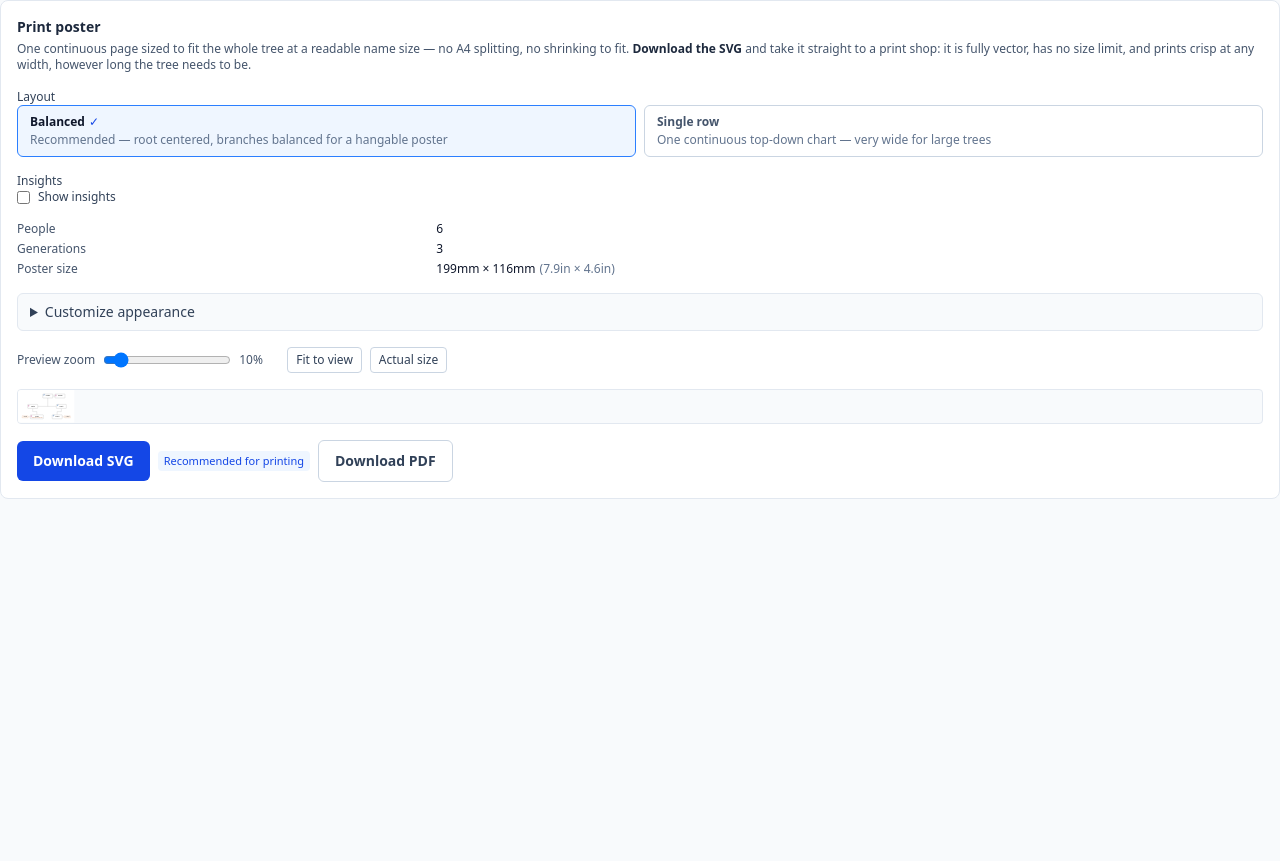
Test: PosterExportPanel › warns and never embeds thumb bytes when High quality is chosen but print is missing
Click the heading "Customize appearance" at point(120, 312), box x1=45 y1=302 x2=195 y2=321
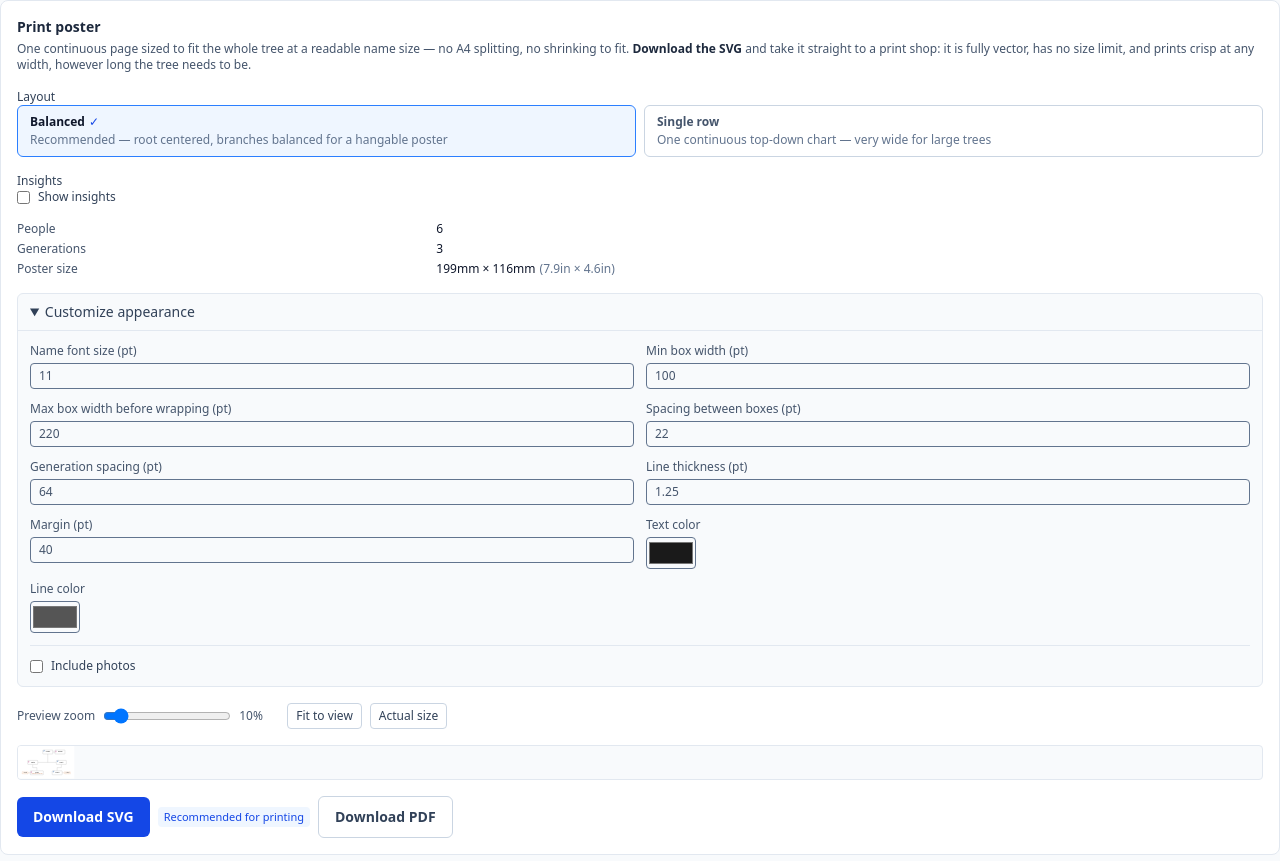
Click the checkbox labelled "Include photos" at point(36, 666), box x1=30 y1=660 x2=43 y2=672
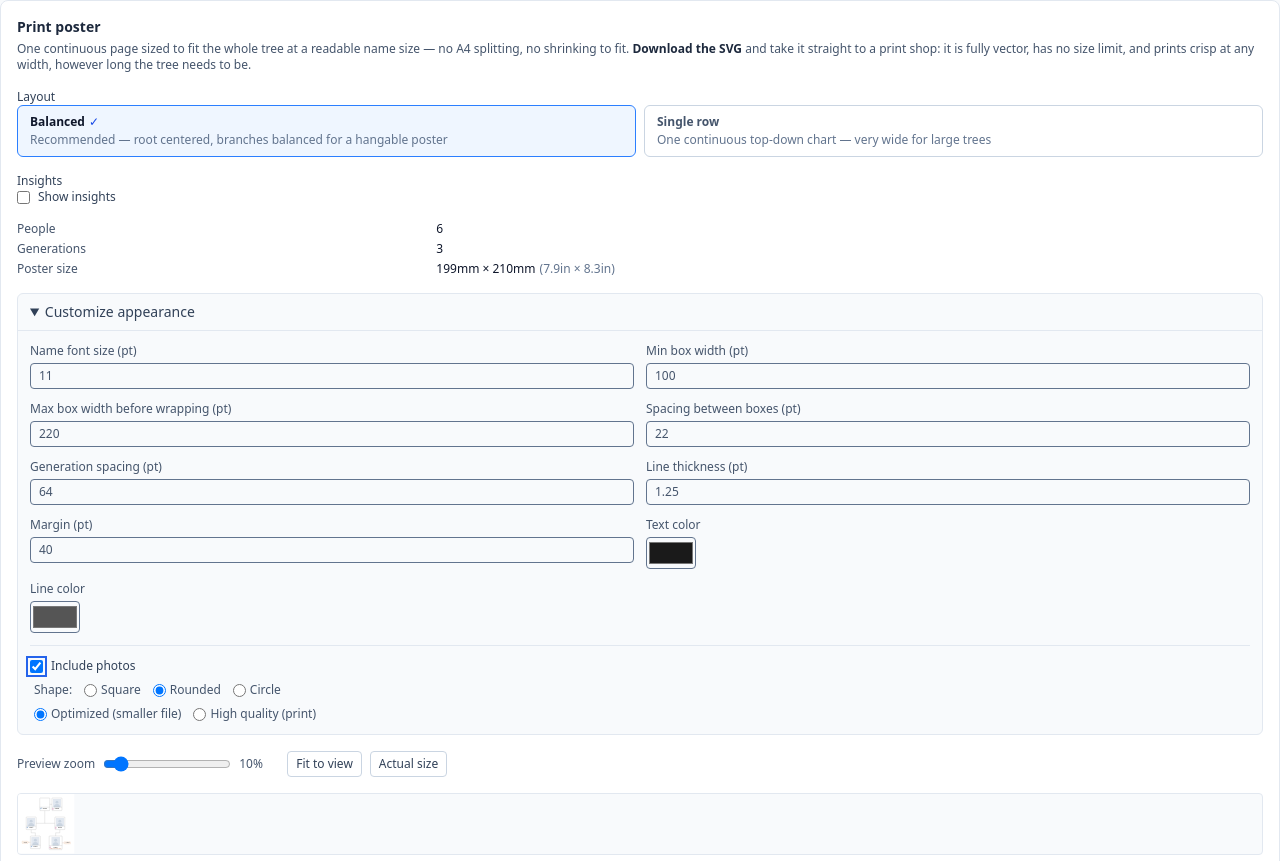
Click the radio button labelled "High quality (print)" at point(200, 714), box x1=193 y1=708 x2=206 y2=720
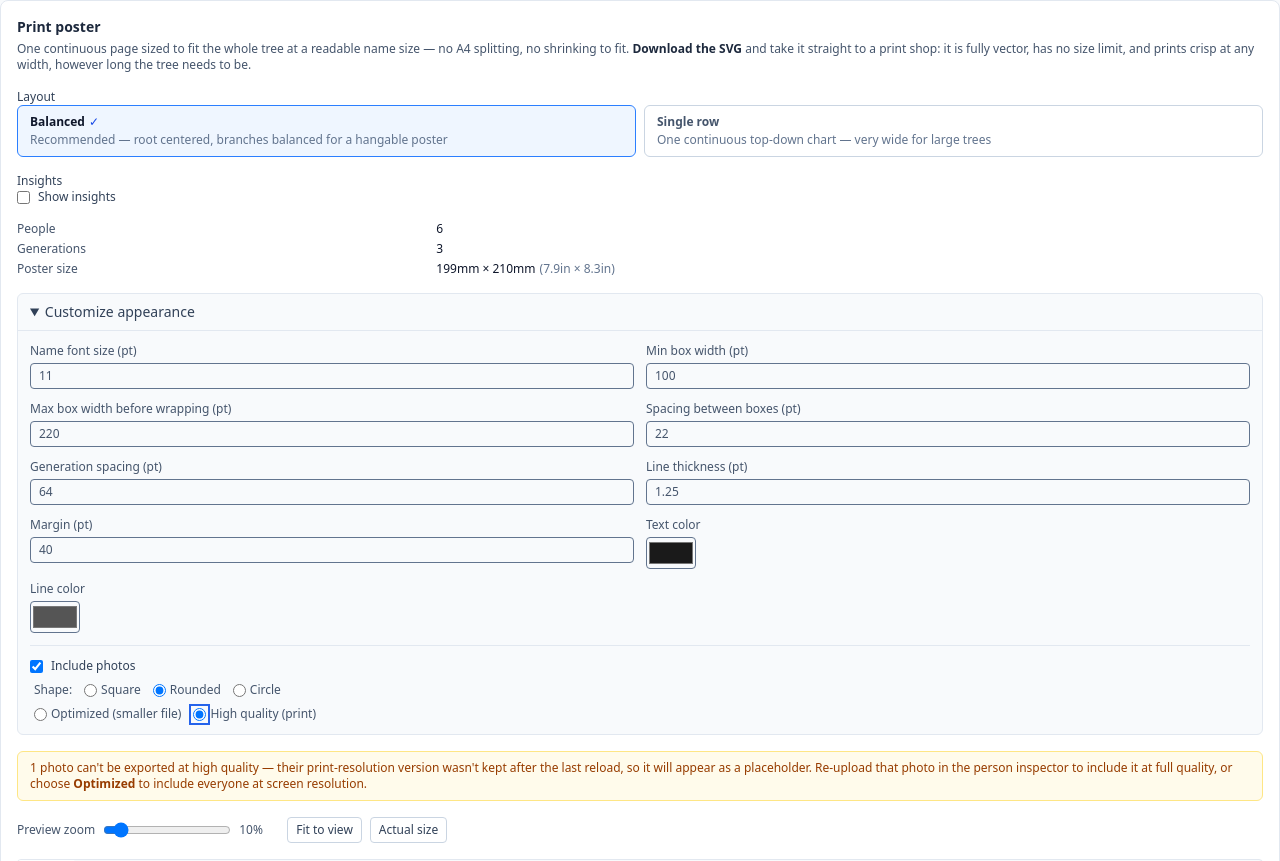
Now the text "1 photo" is shown, box x1=17 y1=751 x2=1263 y2=801
Click the radio button labelled "Optimized (smaller file)" at point(40, 714), box x1=34 y1=708 x2=47 y2=720
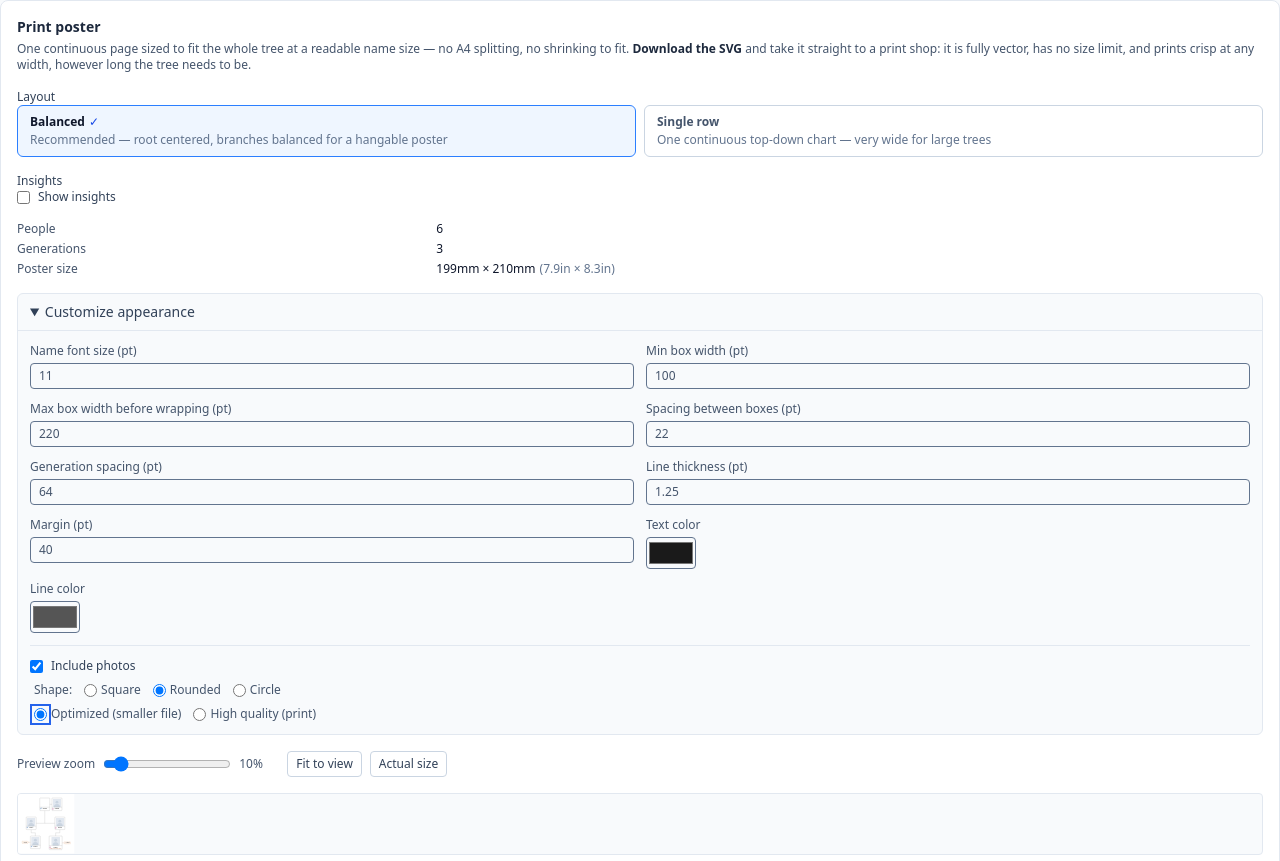
Now the text "1 photo" is gone
